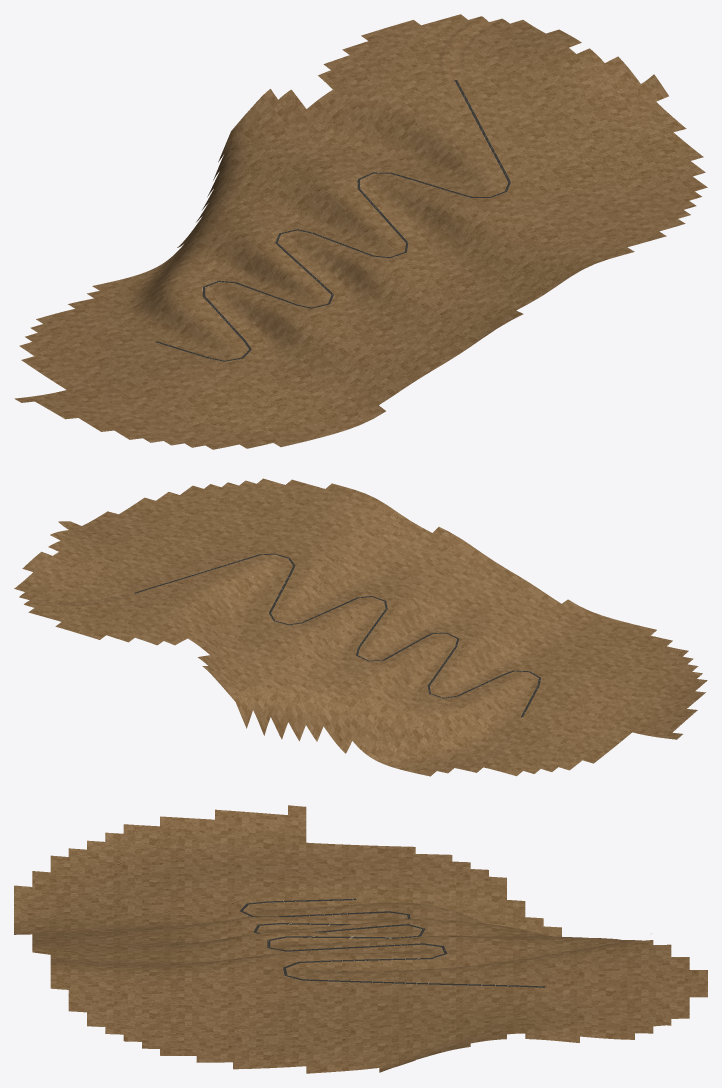
3 views of the same model, one above another, from view 1: azimuth 30°, elevation 25°; view 2: azimuth 150°, elevation 25°; view 3: azimuth 270°, elevation 25° (orthographic). The views are drawn at different scales.
Parts seen in each view (by area): view 1: S03_TERRAIN_LOD2_WEB_EXPORT, S03_ROAD_ASPHALT_LOD2_WEB_EXPORT; view 2: S03_TERRAIN_LOD2_WEB_EXPORT, S03_ROAD_ASPHALT_LOD2_WEB_EXPORT; view 3: S03_TERRAIN_LOD2_WEB_EXPORT, S03_ROAD_ASPHALT_LOD2_WEB_EXPORT.
Part boxes in pixels (<box>): S03_TERRAIN_LOD2_WEB_EXPORT: <box>14,14,707,449</box>; S03_ROAD_ASPHALT_LOD2_WEB_EXPORT: <box>155,80,510,361</box>; S03_TERRAIN_LOD2_WEB_EXPORT: <box>14,478,707,776</box>; S03_ROAD_ASPHALT_LOD2_WEB_EXPORT: <box>134,553,540,717</box>; S03_TERRAIN_LOD2_WEB_EXPORT: <box>14,805,707,1073</box>; S03_ROAD_ASPHALT_LOD2_WEB_EXPORT: <box>239,898,545,987</box>.
Bounding box in the file's own units: 2080 × 403 × 1520.
Materials: 7 (7 with a texture image).
